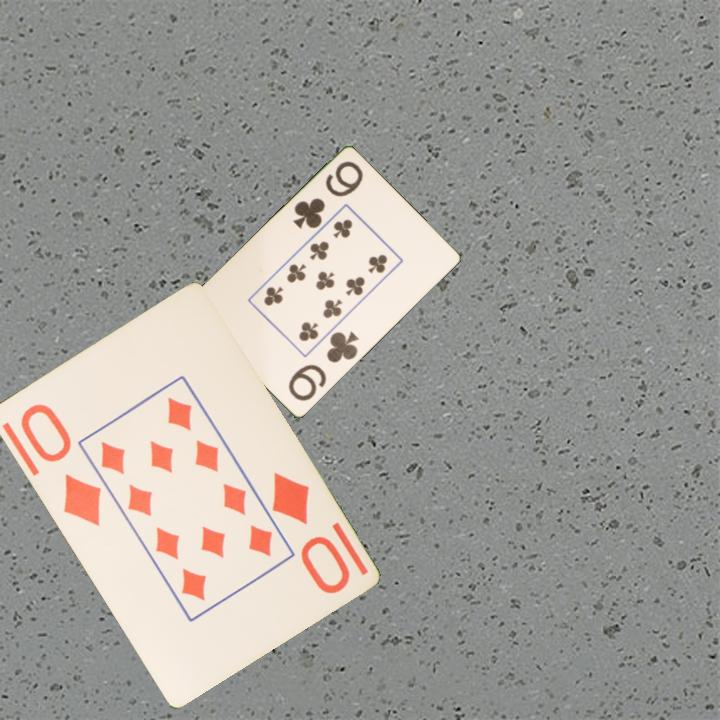10d: (16, 399, 104, 530), (267, 468, 353, 597)
9c: (284, 328, 362, 405), (289, 158, 366, 232)
